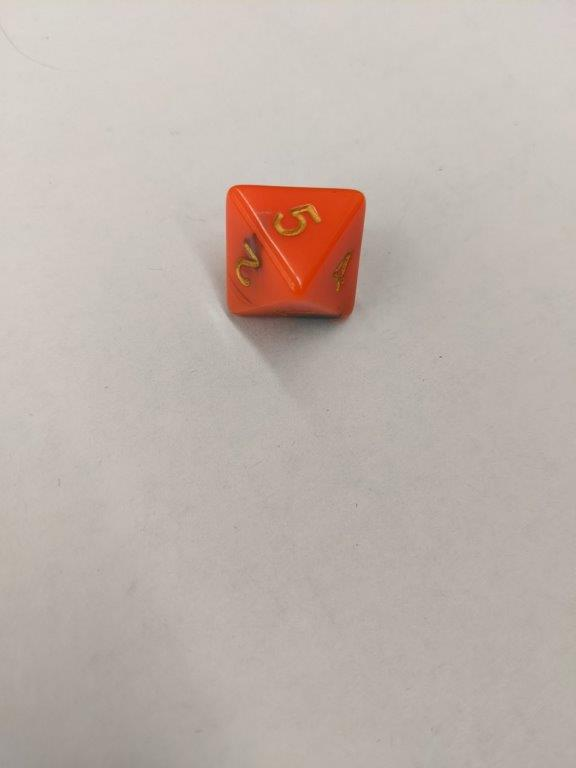d8-5: (220, 182, 366, 323)
